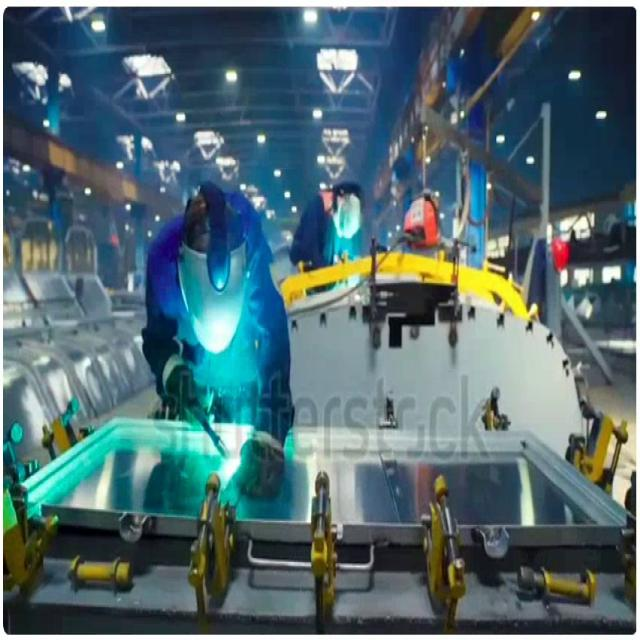gloved: (231, 431, 286, 498), (158, 353, 198, 413)
